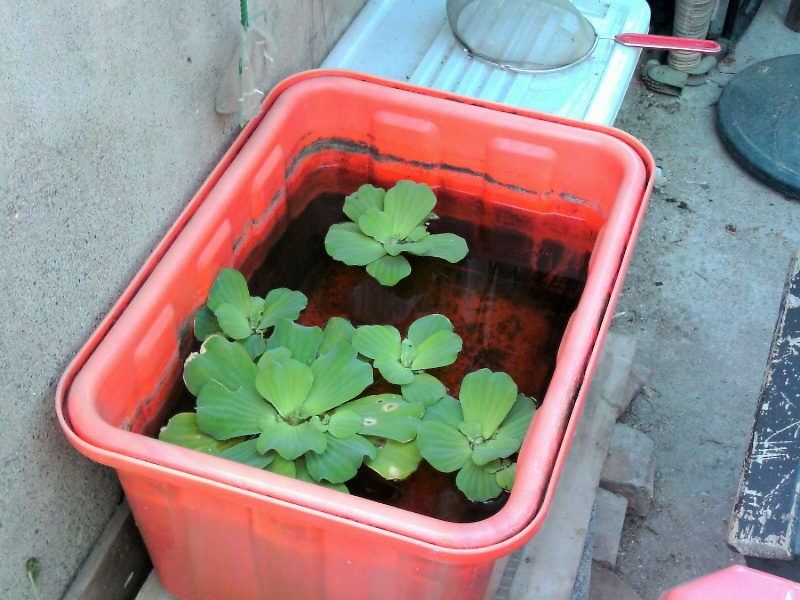box: (52, 65, 660, 600)
plate: (318, 1, 652, 127)
